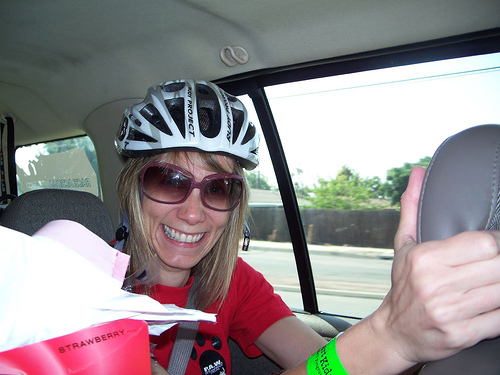helmet: (127, 81, 263, 164)
